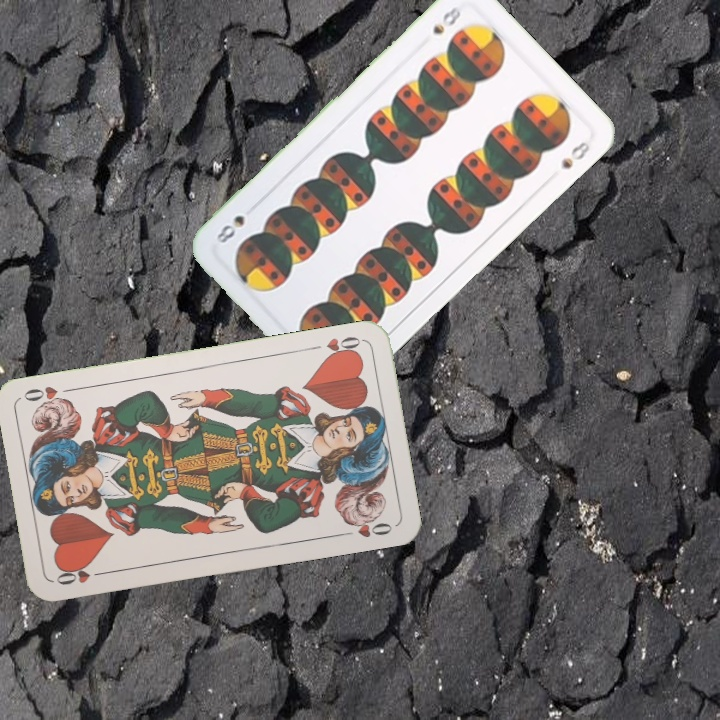HO: (306, 332, 365, 361), (52, 562, 110, 588)
S8: (428, 1, 464, 37)
